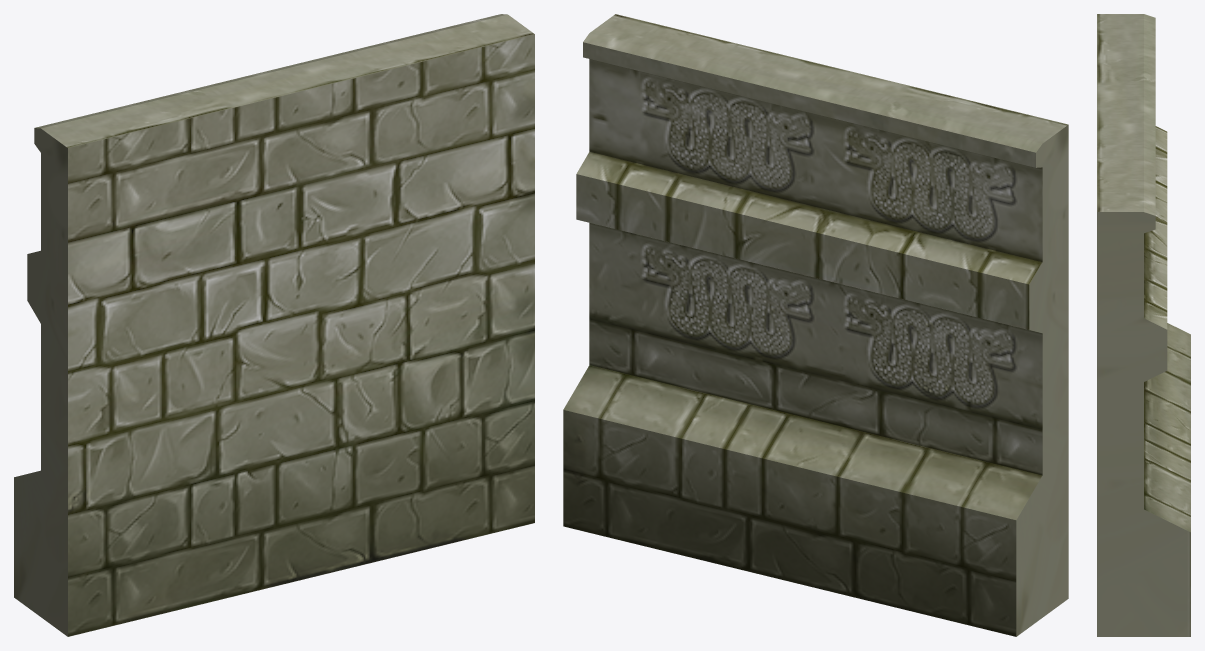
File: Wall.FBX
The picture shows the model from 3 angles, left to right: view 1: azimuth 30°, elevation 25°; view 2: azimuth 150°, elevation 25°; view 3: azimuth 270°, elevation 25°; orthographic projection. The views are drawn at different scales.
Visible parts, largest first — view 1: Wall_mirror; view 2: Wall_mirror; view 3: Wall_mirror.
Part boxes in pixels (x1=…): Wall_mirror: x1=14, y1=14, x2=534, y2=636; Wall_mirror: x1=563, y1=14, x2=1068, y2=636; Wall_mirror: x1=1097, y1=14, x2=1190, y2=636.
Size of the model in its own units: 2 by 2 by 0.4.
Materials: 1 (1 with a texture image).
